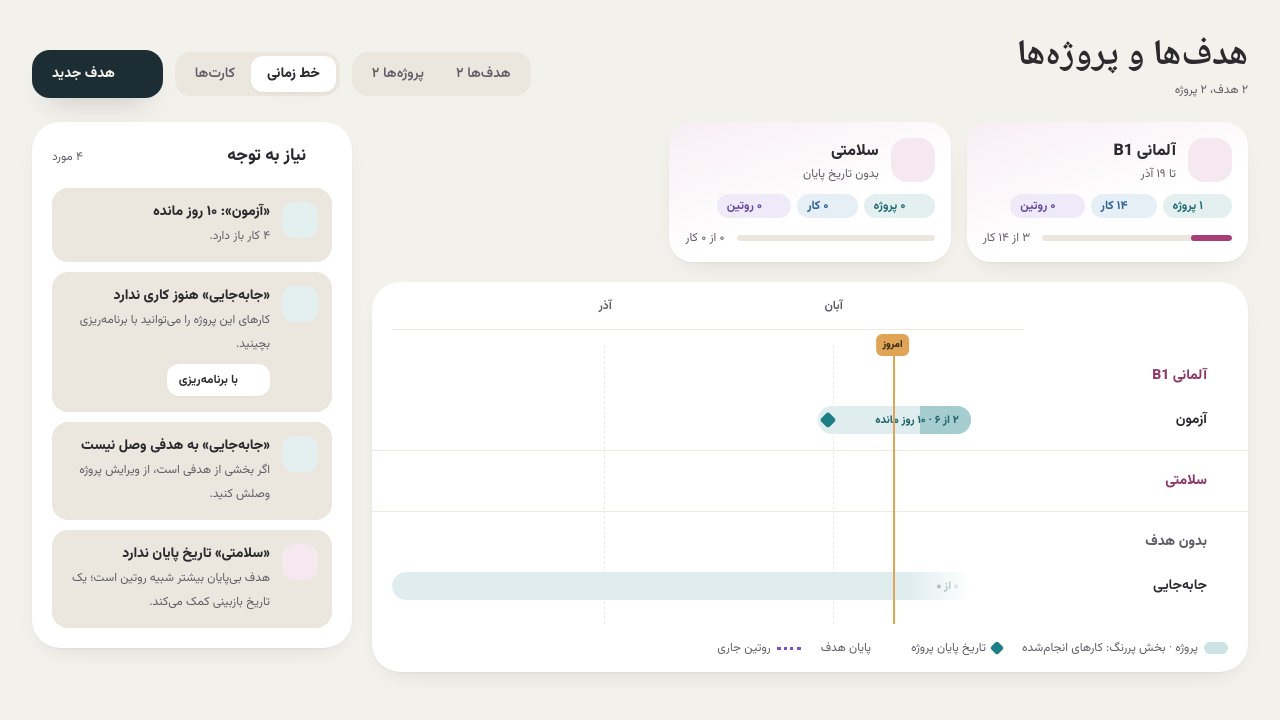
Test: Goals on desktop › draws each Project from when it was made to its target date, with its Tasks done
This screenshot has width=1280, height=720.
Expected: the text "۲ از ۶ · ۱۰ روز مانده" is shown, [875, 412, 959, 429]
// The phone's cards are one switch away.
Click the button "کارت‌ها" at (215, 74), box [179, 56, 251, 92]
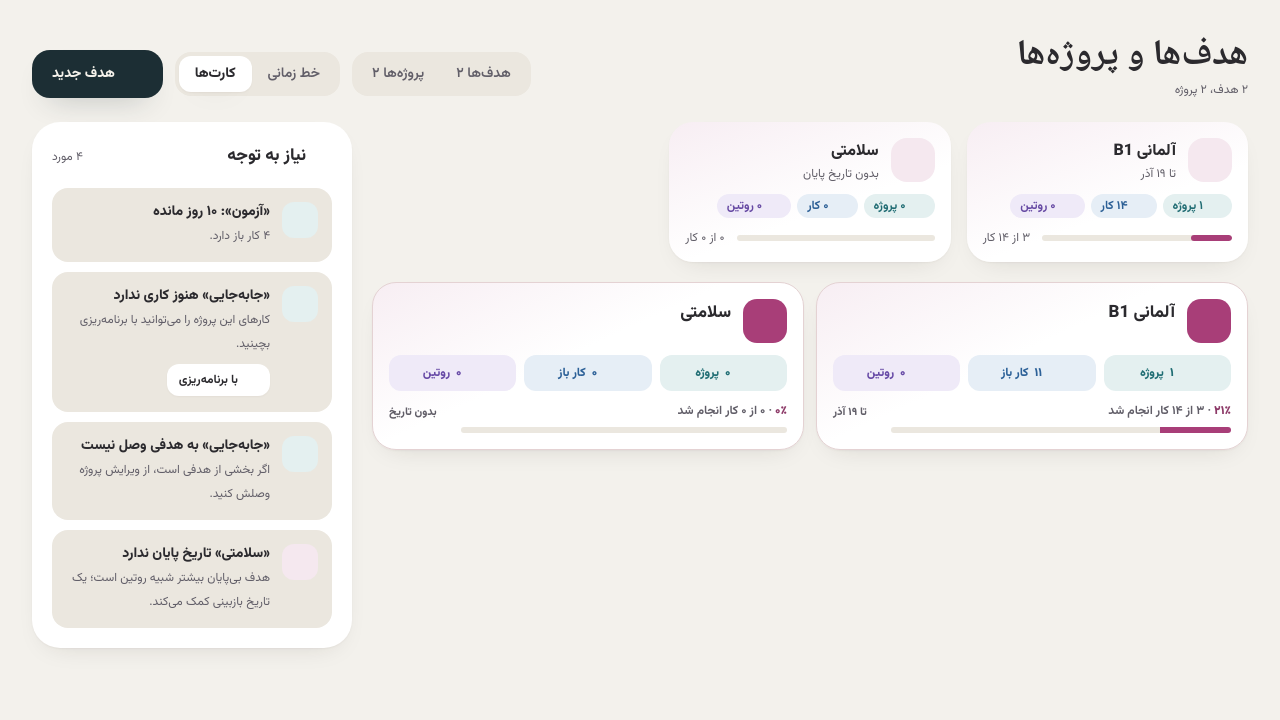
Now the element named "کارت‌های هدف" is shown, box [372, 282, 1248, 450]
